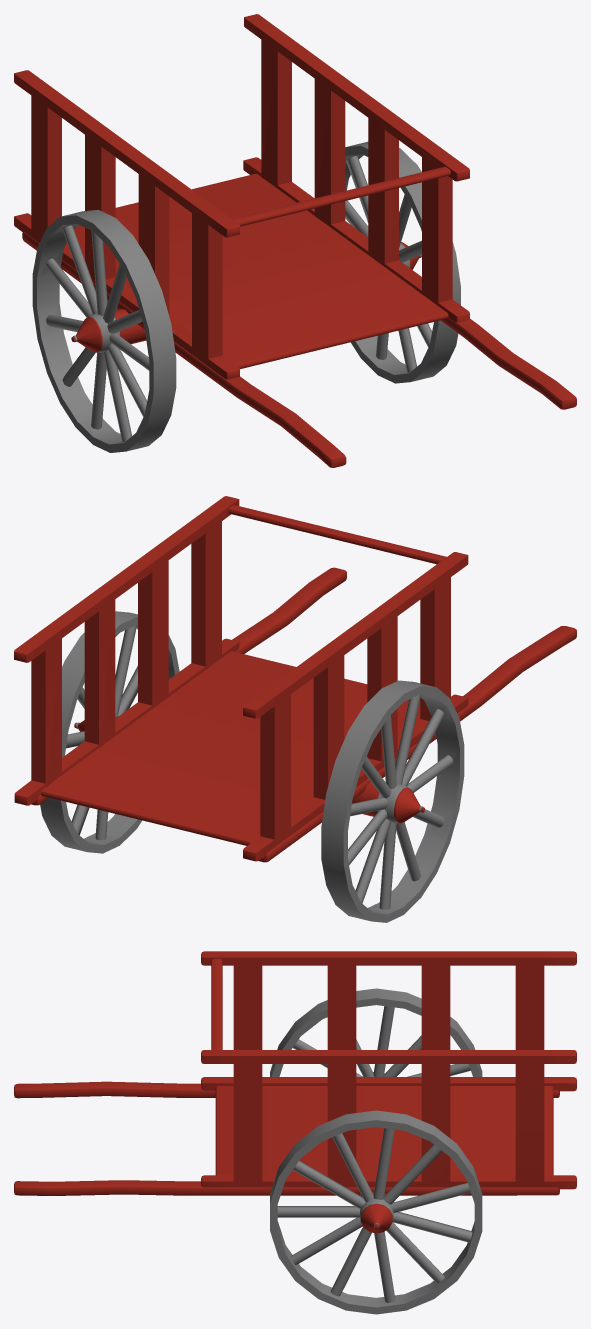
The model's file is Cart.fbx.
3 renders of one model, top to bottom at view 1: azimuth 30°, elevation 25°; view 2: azimuth 150°, elevation 25°; view 3: azimuth 270°, elevation 25°, orthographic. The views are drawn at different scales.
Visible parts, largest first — view 1: Cart, Wheel; view 2: Cart, Wheel; view 3: Cart, Wheel.
Part boxes in pixels (x1,y1,x2,y2): Cart: [14, 14, 576, 467]; Wheel: [32, 141, 460, 452]; Cart: [14, 496, 576, 862]; Wheel: [40, 611, 464, 922]; Cart: [14, 951, 576, 1233]; Wheel: [270, 988, 482, 1314].
Size of the model in its own units: 3.02 by 2.3 by 4.77.
